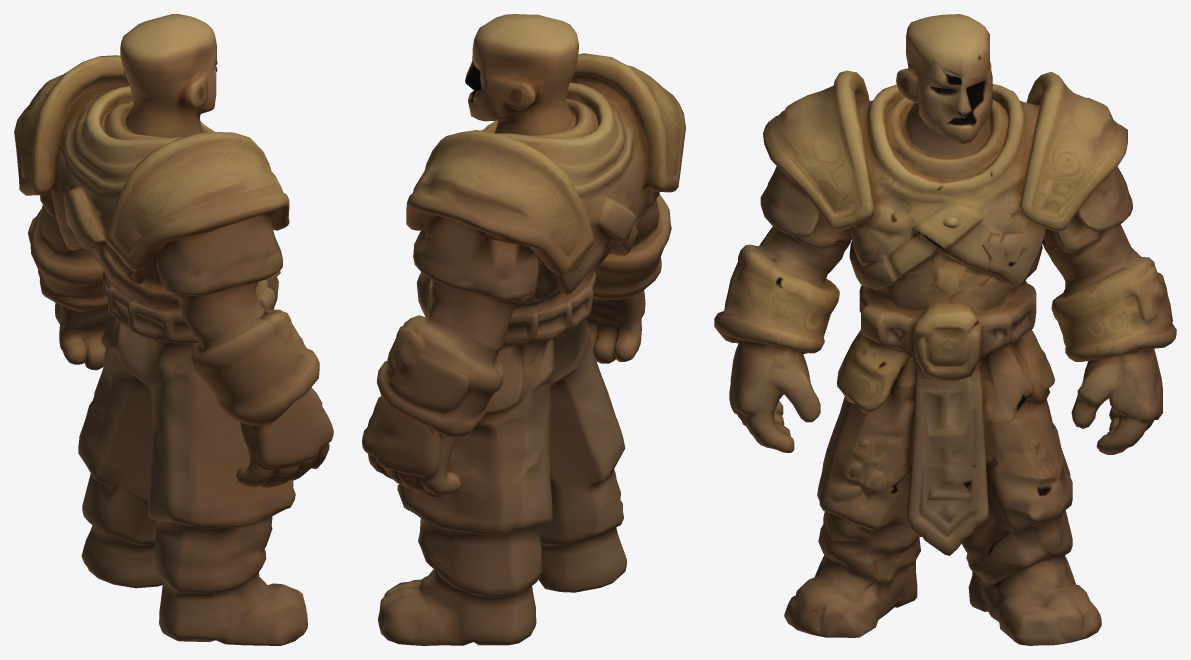
The picture shows the model from 3 angles, left to right: view 1: azimuth 30°, elevation 25°; view 2: azimuth 150°, elevation 25°; view 3: azimuth 270°, elevation 25°; orthographic projection.
Visible parts, largest first — view 1: tripo_node_bac721fc-c3e5-4de0-83e9-858f711373ca; view 2: tripo_node_bac721fc-c3e5-4de0-83e9-858f711373ca; view 3: tripo_node_bac721fc-c3e5-4de0-83e9-858f711373ca.
Part boxes in pixels (x1=…): tripo_node_bac721fc-c3e5-4de0-83e9-858f711373ca: x1=14, y1=14, x2=333, y2=645; tripo_node_bac721fc-c3e5-4de0-83e9-858f711373ca: x1=362, y1=14, x2=685, y2=645; tripo_node_bac721fc-c3e5-4de0-83e9-858f711373ca: x1=714, y1=14, x2=1176, y2=645.
Bounding box in the file's own units: 0.362 × 1 × 0.7221.
1 material, 1 textured.
